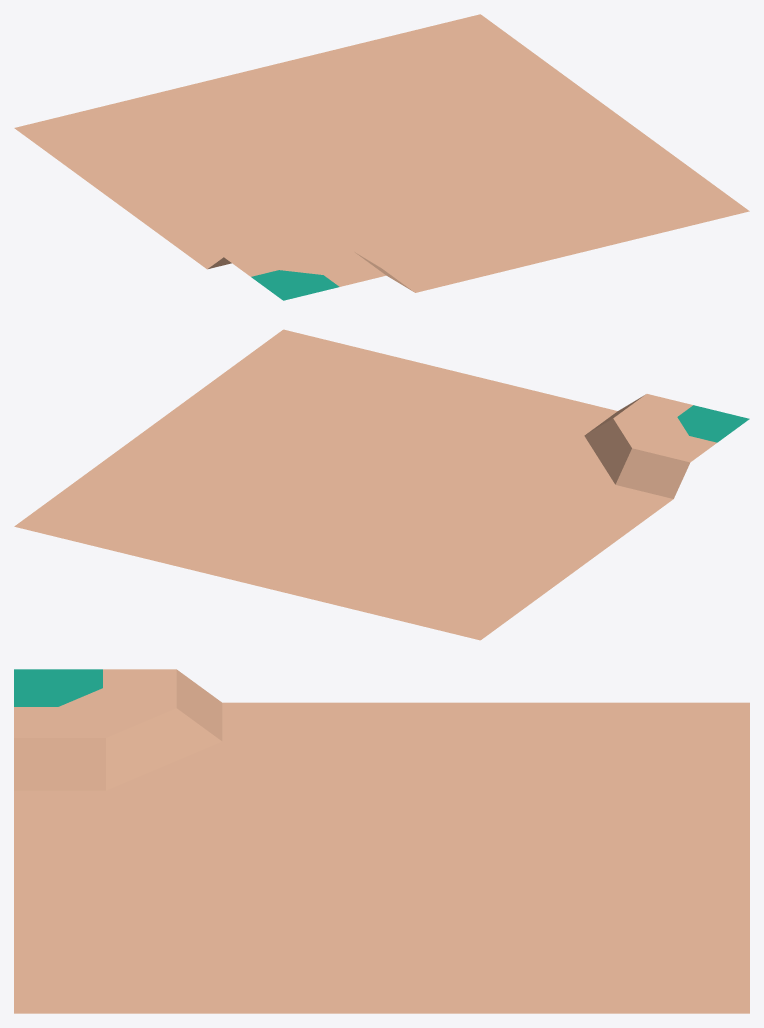
The model's file is ground_pathCornerSmall.glb.
3 renders of one model, top to bottom at view 1: azimuth 30°, elevation 25°; view 2: azimuth 150°, elevation 25°; view 3: azimuth 270°, elevation 25°, orthographic. The views are drawn at different scales.
Parts seen in each view (by area): view 1: ground_pathCornerSmall; view 2: ground_pathCornerSmall; view 3: ground_pathCornerSmall.
Boxes of the visible parts, box(x1,y1,x2,y2) form: ground_pathCornerSmall: box(14, 14, 749, 300); ground_pathCornerSmall: box(14, 329, 749, 640); ground_pathCornerSmall: box(14, 669, 749, 1013).
Bounding box in the file's own units: 1.16 × 0.0581 × 1.16.
